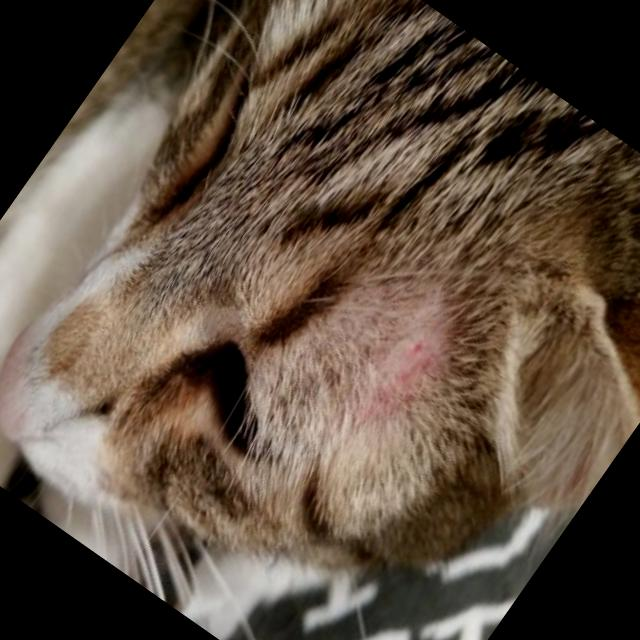cat-ringworm: (283, 222, 531, 475)
